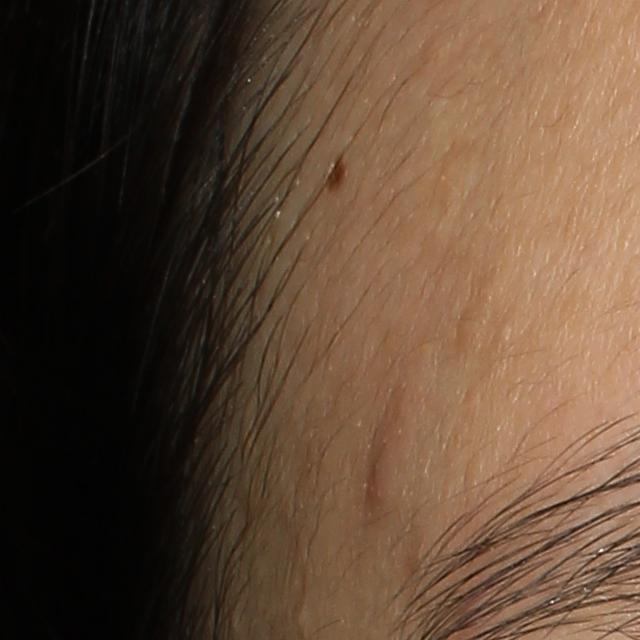comedo: (294, 605, 310, 632), (499, 320, 512, 340)
